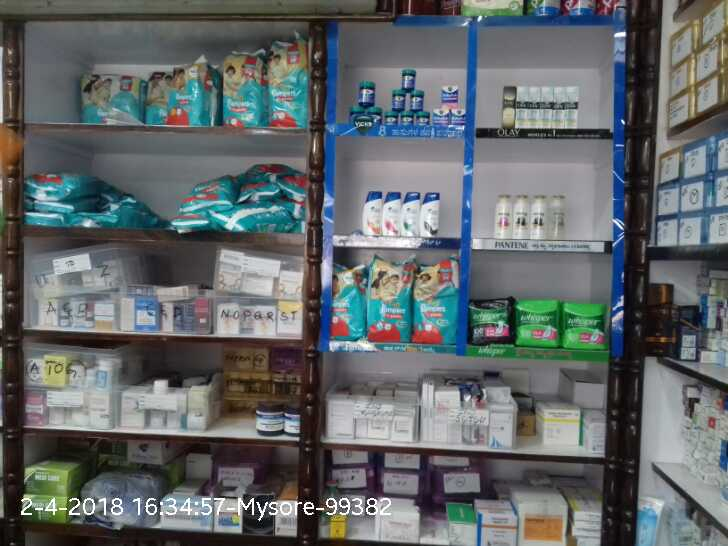vicks: (345, 65, 430, 123), (430, 85, 468, 123)
